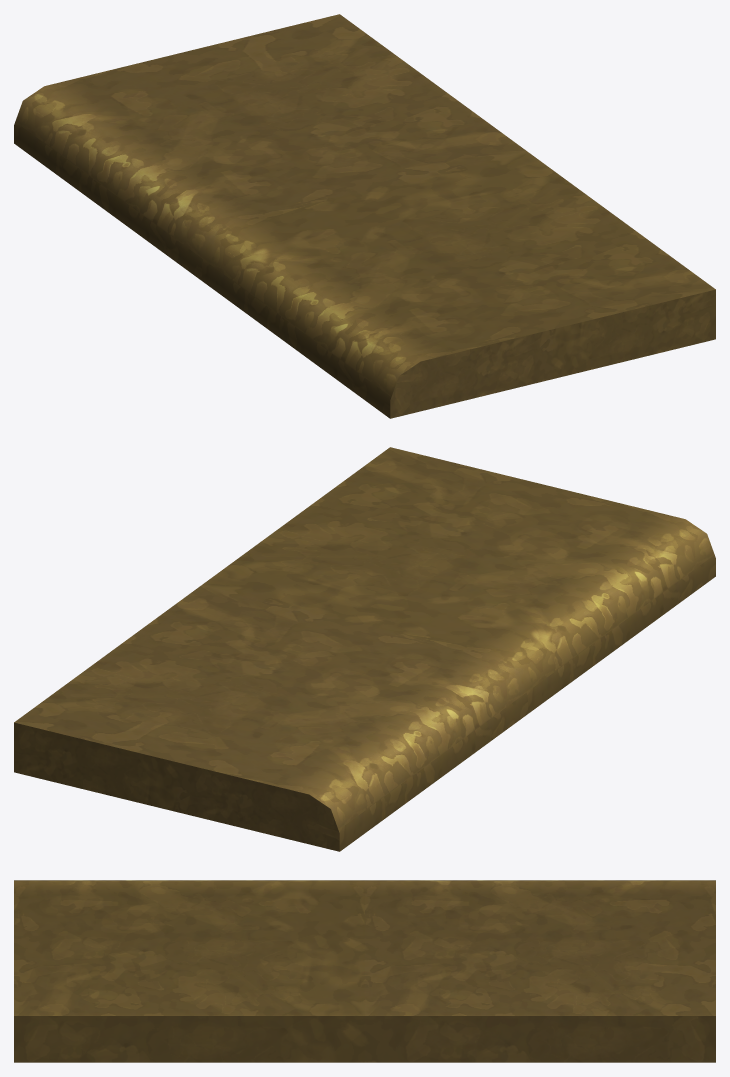
The model's file is DI_032_shelf.glb.
3 renders of one model, top to bottom at view 1: azimuth 30°, elevation 25°; view 2: azimuth 150°, elevation 25°; view 3: azimuth 270°, elevation 25°, orthographic. The views are drawn at different scales.
Parts seen in each view (by area): view 1: Shelf; view 2: Shelf; view 3: Shelf.
Boxes of the visible parts, box(x1,y1,x2,y2) form: Shelf: box(14, 14, 715, 418); Shelf: box(14, 447, 715, 851); Shelf: box(14, 880, 715, 1062).
Size of the model in its own units: 0.75 by 0.1097 by 1.5.
1 material, 1 textured.
